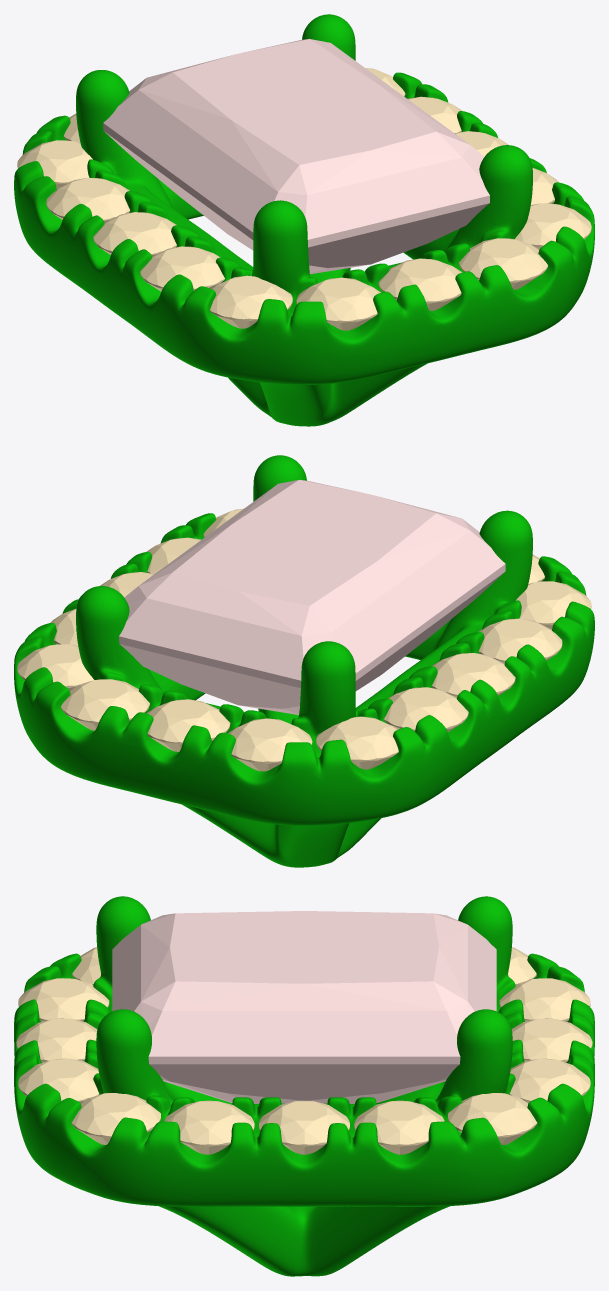
The picture shows the model from 3 angles, top to bottom: view 1: azimuth 30°, elevation 25°; view 2: azimuth 150°, elevation 25°; view 3: azimuth 270°, elevation 25°; orthographic projection.
Parts seen in each view (by area): view 1: Metal01, Diamond_Radiant, Diamond_Round.014, Diamond_Round.004, Diamond_Round.015, Diamond_Round.003, Diamond_Round.013, Diamond_Round.011, Diamond_Round.012, Diamond_Round.009, Diamond_Round.005, Diamond_Round.002 (+2 smaller); view 2: Metal01, Diamond_Radiant, Diamond_Round.010, Diamond_Round.006, Diamond_Round.009, Diamond_Round.007, Diamond_Round.011, Diamond_Round.012, Diamond_Round.013, Diamond_Round.015, Diamond_Round.008, Diamond_Round (+2 smaller); view 3: Metal01, Diamond_Radiant, Diamond_Round, Diamond_Round.002, Diamond_Round.001, Diamond_Round.008, Diamond_Round.005, Diamond_Round.014, Diamond_Round.010, Diamond_Round.004, Diamond_Round.006, Diamond_Round.003 (+3 smaller).
Part boxes in pixels (x1=…): Metal01: x1=14, y1=14, x2=594, y2=426; Diamond_Radiant: x1=103, y1=39, x2=489, y2=274; Diamond_Round.014: x1=296, y1=277, x2=380, y2=330; Diamond_Round.004: x1=459, y1=238, x2=547, y2=289; Diamond_Round.015: x1=210, y1=275, x2=292, y2=328; Diamond_Round.003: x1=378, y1=258, x2=462, y2=310; Diamond_Round.013: x1=140, y1=246, x2=224, y2=291; Diamond_Round.011: x1=46, y1=177, x2=130, y2=222; Diamond_Round.012: x1=93, y1=212, x2=176, y2=256; Diamond_Round.009: x1=17, y1=140, x2=92, y2=188; Diamond_Round.005: x1=515, y1=203, x2=591, y2=249; Diamond_Round.002: x1=407, y1=96, x2=462, y2=132; Metal01: x1=14, y1=455, x2=594, y2=867; Diamond_Radiant: x1=119, y1=479, x2=505, y2=714; Diamond_Round.010: x1=228, y1=718, x2=312, y2=771; Diamond_Round.006: x1=61, y1=679, x2=149, y2=730; Diamond_Round.009: x1=316, y1=716, x2=398, y2=769; Diamond_Round.007: x1=146, y1=699, x2=230, y2=751; Diamond_Round.011: x1=384, y1=687, x2=468, y2=732; Diamond_Round.012: x1=432, y1=653, x2=515, y2=697; Diamond_Round.013: x1=478, y1=618, x2=562, y2=663; Diamond_Round.015: x1=516, y1=581, x2=591, y2=629; Diamond_Round.008: x1=17, y1=644, x2=93, y2=690; Diamond_Round: x1=146, y1=537, x2=201, y2=573; Metal01: x1=14, y1=896, x2=594, y2=1276; Diamond_Radiant: x1=112, y1=911, x2=496, y2=1103; Diamond_Round: x1=164, y1=1100, x2=254, y2=1154; Diamond_Round.002: x1=354, y1=1100, x2=444, y2=1154; Diamond_Round.001: x1=259, y1=1100, x2=349, y2=1154; Diamond_Round.008: x1=448, y1=1093, x2=537, y2=1144; Diamond_Round.005: x1=71, y1=1093, x2=160, y2=1144; Diamond_Round.014: x1=18, y1=978, x2=109, y2=1021; Diamond_Round.010: x1=499, y1=978, x2=590, y2=1021; Diamond_Round.004: x1=18, y1=1058, x2=99, y2=1103; Diamond_Round.006: x1=509, y1=1058, x2=590, y2=1103; Diamond_Round.003: x1=16, y1=1018, x2=97, y2=1062.
Bounding box in the file's own units: 7.49 × 5.35 × 8.91.
